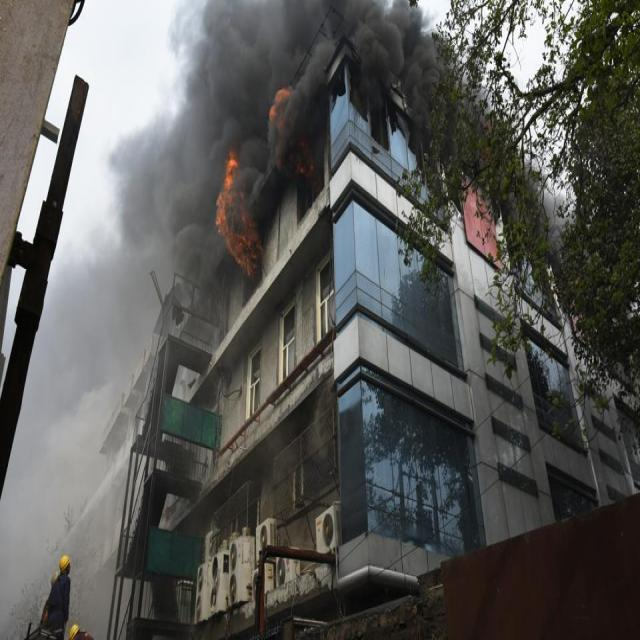Fire: (192, 95, 336, 261)
